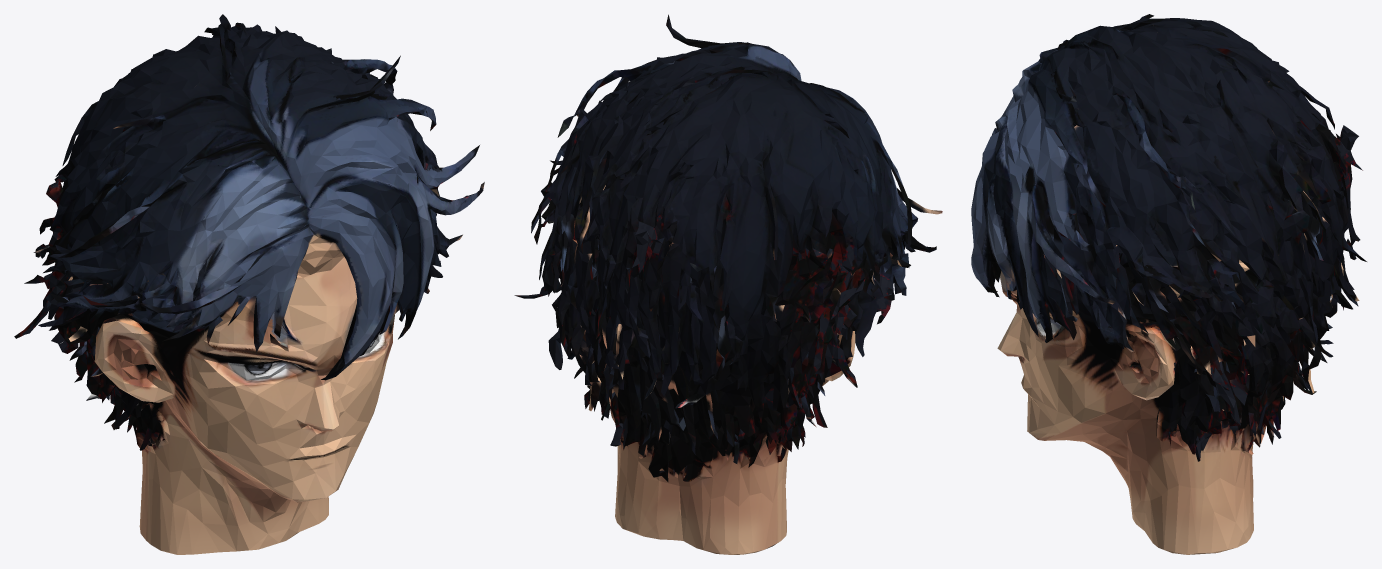
File: side_taneo_repaired_atlas.glb
3 renders of one model, left to right at view 1: azimuth 30°, elevation 25°; view 2: azimuth 150°, elevation 25°; view 3: azimuth 270°, elevation 25°, orthographic. The views are drawn at different scales.
Parts seen in each view (by area): view 1: temp_mesh.ply; view 2: temp_mesh.ply; view 3: temp_mesh.ply.
Boxes of the visible parts, bbox=[...] form: temp_mesh.ply: bbox=[14, 14, 484, 554]; temp_mesh.ply: bbox=[514, 14, 942, 554]; temp_mesh.ply: bbox=[971, 14, 1366, 554].
Bounding box in the file's own units: 1.71 × 1.97 × 1.46.
1 material, 1 textured.
